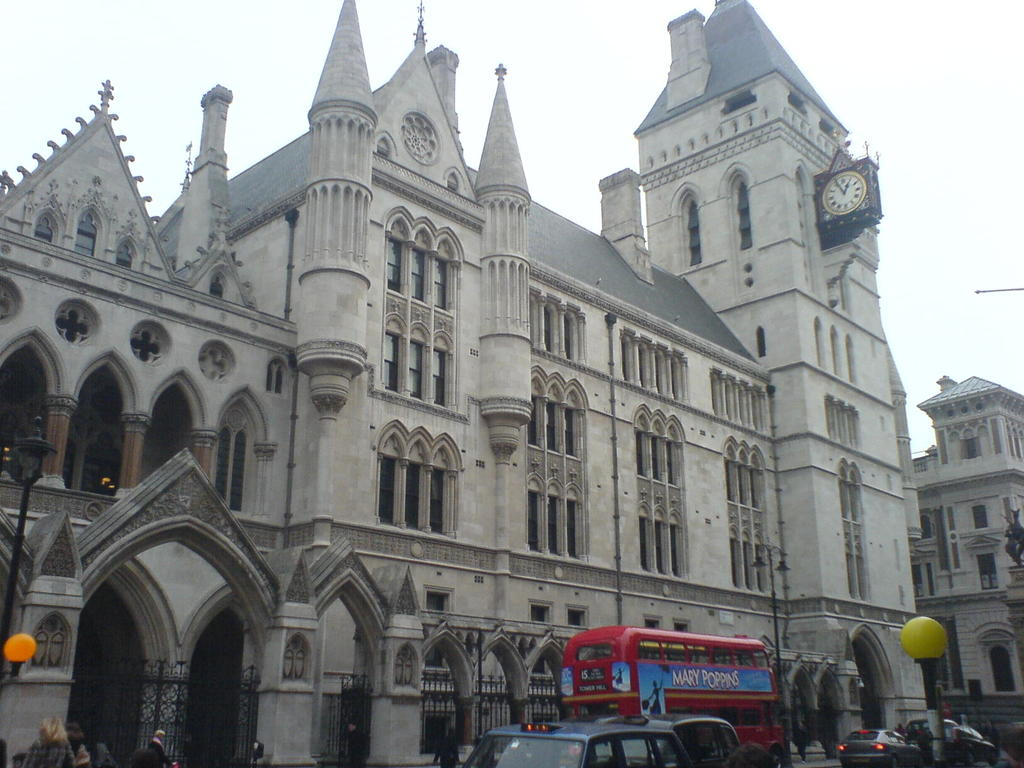cars: (464, 721, 694, 767), (597, 714, 740, 767), (932, 723, 998, 767), (842, 731, 921, 766), (906, 718, 943, 734)
